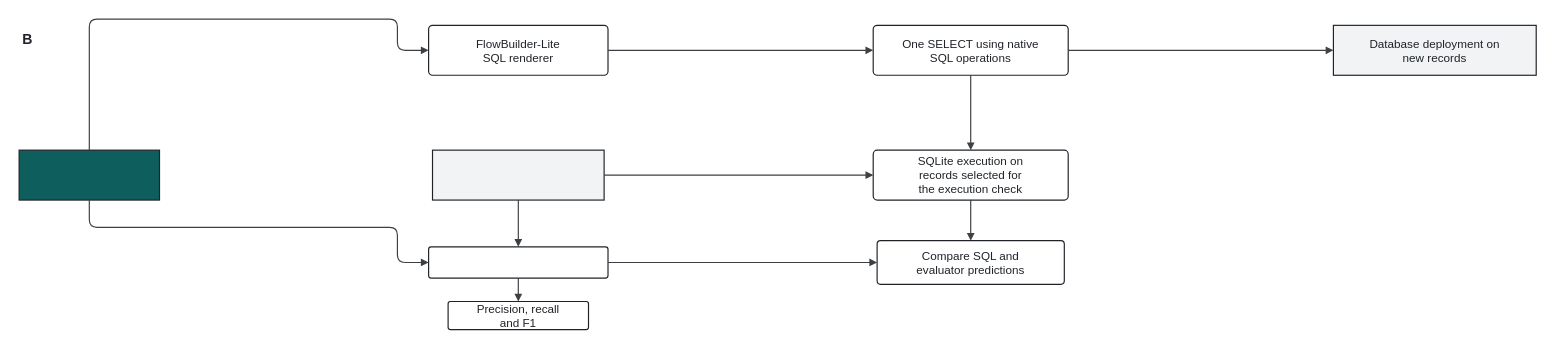
Image size: 1550x344. Some labels were removed from this diagram. The shapes that lost their labels are listed below. From the top down, each one's centre as x and y in pixels, then its label:
At (x=89, y=174): "Selected program".
At (x=518, y=174): "Held-out test split".
At (x=518, y=262): "FlowBuilder-Lite reference evaluator".
